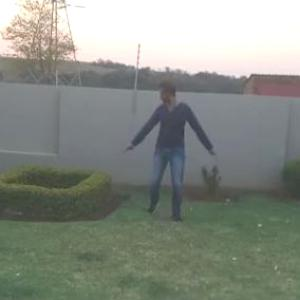land: (115, 75, 241, 252)
